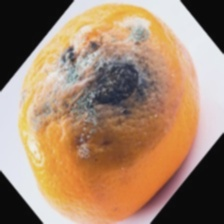orange: (35, 48, 186, 202)
